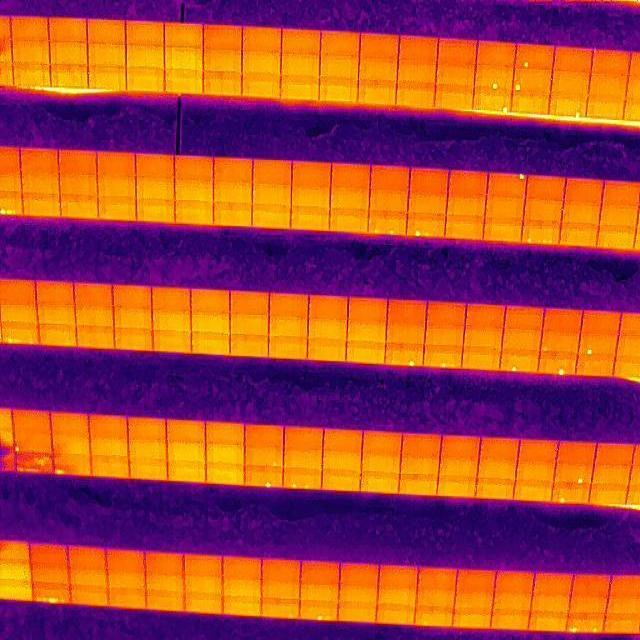Cell: (500, 348, 539, 374), (514, 45, 554, 70), (385, 343, 423, 368), (475, 65, 513, 90), (513, 68, 552, 92), (489, 174, 527, 198), (549, 92, 587, 116), (13, 433, 53, 455), (52, 455, 92, 477), (538, 353, 577, 375), (555, 463, 594, 485), (474, 90, 513, 112), (578, 334, 617, 355), (245, 447, 284, 468), (542, 332, 580, 353), (416, 608, 454, 628), (551, 483, 590, 502), (245, 466, 282, 486)
Cell-Multi: (423, 345, 463, 369), (368, 213, 407, 235), (14, 454, 52, 476), (521, 224, 560, 245), (0, 325, 40, 345), (406, 216, 445, 236), (283, 469, 322, 489), (33, 582, 72, 602), (301, 600, 340, 620), (567, 614, 605, 634)
No-Anomaly: (345, 339, 388, 365), (87, 17, 126, 44), (253, 160, 293, 186), (438, 476, 478, 502), (12, 62, 52, 88), (345, 320, 386, 345), (292, 162, 331, 188), (485, 196, 524, 222), (524, 199, 563, 225), (291, 206, 330, 232), (88, 42, 127, 68), (436, 62, 475, 88), (560, 222, 598, 248), (543, 307, 581, 333), (230, 333, 269, 358), (528, 176, 565, 202), (214, 160, 254, 184), (448, 172, 488, 196), (97, 198, 137, 222), (387, 298, 427, 322), (461, 346, 501, 370), (320, 31, 360, 55), (358, 60, 398, 84), (127, 68, 167, 92), (10, 15, 48, 40), (127, 20, 165, 45), (436, 85, 474, 110), (136, 154, 175, 178), (175, 158, 214, 182), (331, 165, 370, 189), (410, 171, 449, 195), (565, 180, 604, 204), (253, 185, 292, 209), (446, 196, 485, 220), (136, 200, 175, 224), (175, 202, 214, 226), (36, 281, 75, 305), (49, 18, 88, 42), (191, 290, 230, 314), (270, 294, 309, 318), (426, 302, 465, 326), (465, 302, 504, 326), (114, 308, 153, 332), (165, 22, 204, 46), (503, 328, 542, 352), (153, 330, 192, 354), (203, 26, 242, 50), (243, 28, 282, 52), (282, 30, 321, 54), (360, 35, 399, 59), (50, 42, 89, 66), (165, 48, 204, 72), (165, 70, 204, 94), (550, 71, 589, 95), (204, 72, 243, 96), (397, 84, 436, 108), (511, 92, 550, 116), (403, 433, 440, 458), (191, 331, 231, 354), (361, 471, 401, 494), (21, 150, 59, 174), (175, 180, 213, 204), (0, 280, 38, 304), (77, 325, 115, 349), (12, 40, 50, 64), (554, 48, 592, 72), (592, 51, 630, 75), (321, 56, 359, 80), (587, 96, 625, 120), (439, 459, 480, 481), (330, 211, 369, 234), (484, 221, 523, 244), (581, 311, 620, 334), (603, 181, 640, 205), (598, 226, 635, 250), (477, 42, 514, 66), (97, 154, 137, 176), (97, 176, 137, 198), (213, 183, 253, 205), (291, 188, 331, 210), (504, 308, 544, 330), (115, 329, 155, 351), (206, 424, 246, 446), (363, 433, 403, 455), (399, 38, 439, 60), (557, 441, 595, 464), (282, 76, 320, 99), (371, 169, 410, 191), (22, 174, 61, 196), (136, 178, 175, 200), (330, 189, 369, 211), (22, 195, 61, 217), (562, 203, 601, 225), (213, 206, 252, 228), (252, 208, 291, 230), (74, 284, 113, 306), (113, 285, 152, 307), (230, 293, 269, 315), (309, 298, 348, 320), (75, 306, 114, 328), (39, 324, 78, 346), (464, 325, 503, 347), (89, 418, 128, 440), (480, 440, 519, 462), (519, 440, 558, 462), (595, 443, 634, 465), (206, 444, 245, 466), (91, 458, 130, 480), (129, 459, 168, 481), (206, 463, 245, 485), (438, 40, 477, 62), (204, 50, 243, 72), (377, 604, 416, 626), (243, 53, 282, 75), (282, 55, 321, 77), (51, 65, 90, 87), (243, 75, 282, 97), (515, 481, 552, 504), (59, 154, 99, 175), (191, 312, 231, 333), (385, 322, 425, 343), (167, 442, 207, 463), (167, 462, 207, 483), (475, 480, 515, 501), (59, 175, 97, 197), (369, 190, 407, 212), (269, 338, 307, 360), (307, 339, 345, 361), (107, 550, 145, 572), (127, 45, 165, 67), (109, 588, 147, 610), (339, 602, 377, 624), (88, 68, 126, 90), (61, 196, 97, 219), (222, 558, 263, 578), (408, 194, 447, 215), (446, 219, 485, 240), (152, 290, 191, 311), (269, 317, 308, 338), (308, 320, 347, 341), (89, 439, 128, 460), (323, 470, 362, 491), (400, 474, 439, 495), (417, 589, 456, 610), (320, 80, 359, 101), (358, 84, 397, 105), (601, 204, 638, 226), (127, 422, 167, 442), (166, 422, 206, 442), (146, 574, 186, 594), (223, 596, 263, 616), (441, 439, 479, 460), (589, 74, 627, 95), (0, 304, 39, 324), (38, 305, 77, 325), (152, 312, 191, 332), (230, 315, 269, 335), (575, 354, 614, 374), (12, 412, 51, 432), (51, 418, 90, 438), (245, 426, 284, 446), (284, 429, 323, 449), (323, 432, 362, 452), (52, 438, 91, 458), (284, 448, 323, 468), (323, 451, 362, 471), (516, 462, 555, 482), (146, 554, 185, 574), (379, 566, 418, 586), (418, 569, 457, 589), (495, 574, 534, 594), (223, 578, 262, 598), (378, 586, 417, 606), (146, 592, 185, 612), (528, 611, 567, 631), (398, 62, 437, 82), (457, 570, 494, 591), (426, 325, 464, 345), (361, 455, 401, 474), (69, 548, 107, 568), (339, 565, 379, 584), (70, 568, 108, 588), (531, 592, 569, 612), (185, 594, 223, 614), (570, 594, 608, 614), (263, 599, 301, 619), (348, 301, 387, 320), (401, 456, 440, 475), (479, 461, 518, 480), (32, 545, 71, 564), (453, 610, 492, 629), (593, 465, 630, 485), (72, 588, 109, 608), (590, 483, 628, 502), (263, 561, 301, 580), (301, 565, 339, 584), (108, 571, 146, 590), (572, 575, 610, 594), (456, 591, 494, 610), (127, 441, 166, 459), (533, 575, 572, 593), (261, 581, 300, 599), (339, 584, 378, 602), (32, 564, 70, 582), (185, 577, 223, 595), (185, 558, 222, 576), (300, 584, 339, 601), (493, 594, 532, 611), (492, 612, 530, 628)
